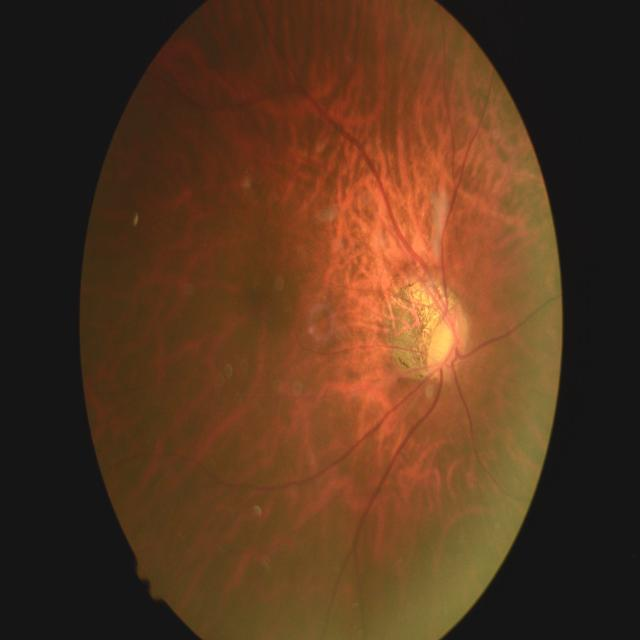cup: (430, 321, 454, 367)
disk: (425, 304, 468, 382)
